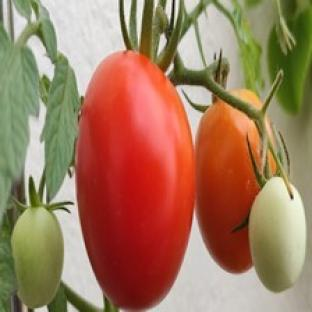Tomato: (76, 52, 194, 310), (195, 99, 260, 272), (250, 177, 306, 292), (12, 207, 64, 307)
